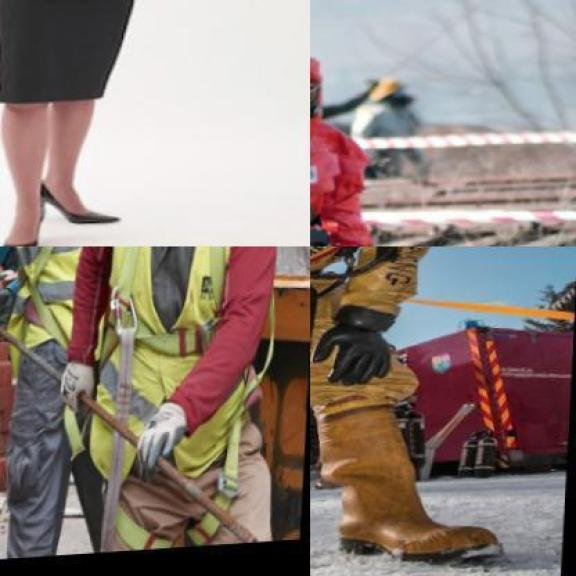safety_vest: (87, 247, 281, 490), (310, 246, 467, 417), (3, 246, 112, 352)
